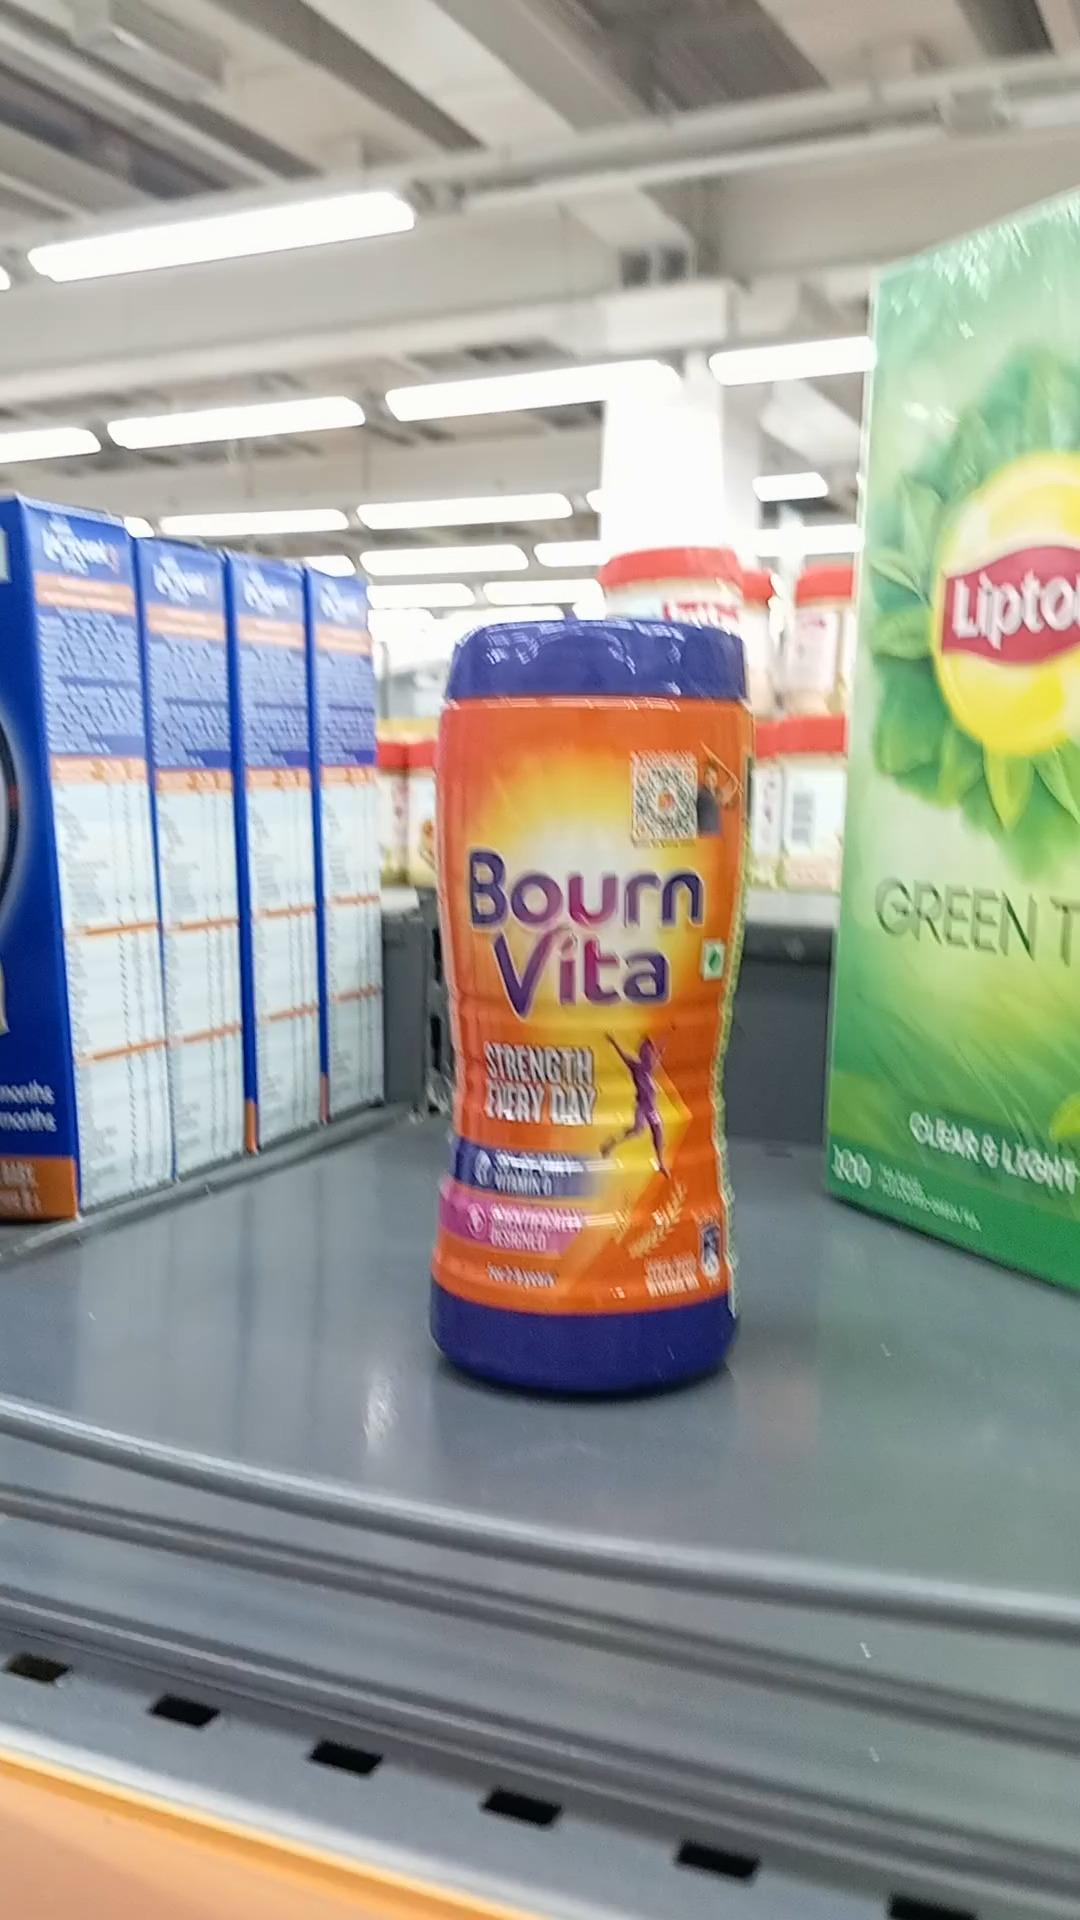BOURN_VITA_200_G_JAR: (427, 603, 746, 1398)
